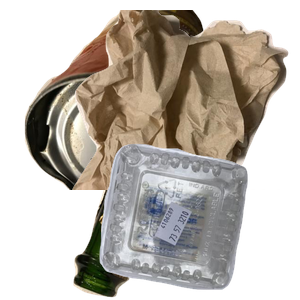glass: (71, 152, 260, 300)
metal: (22, 10, 251, 190)
plastic: (97, 141, 300, 300)
trash: (70, 10, 300, 190)
